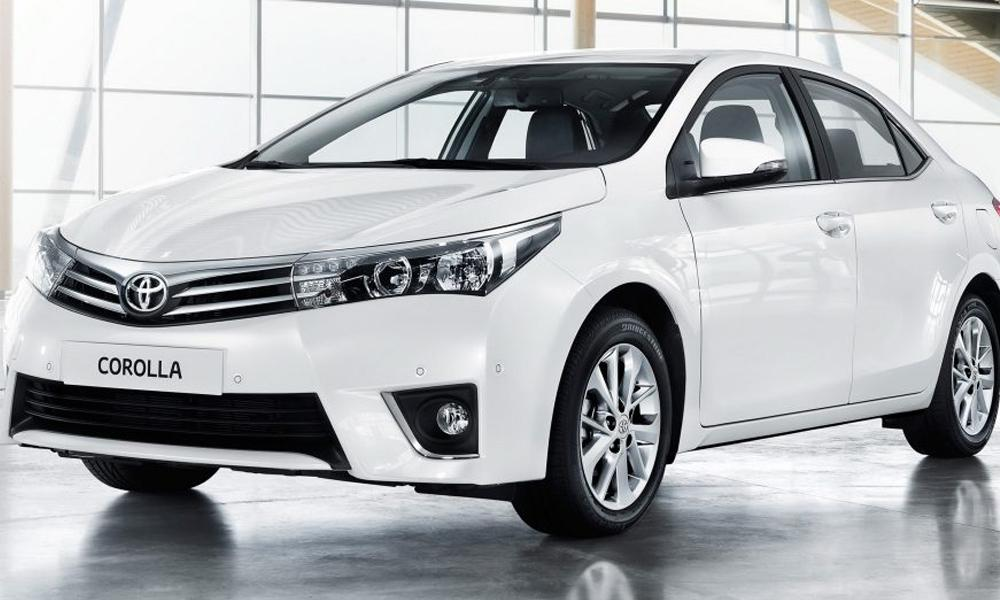windshield: (230, 57, 700, 178)
